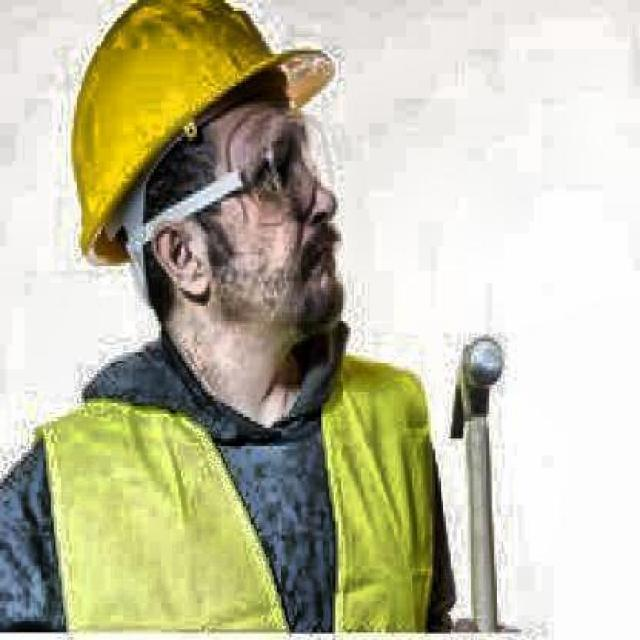Goggles: (142, 114, 334, 254)
